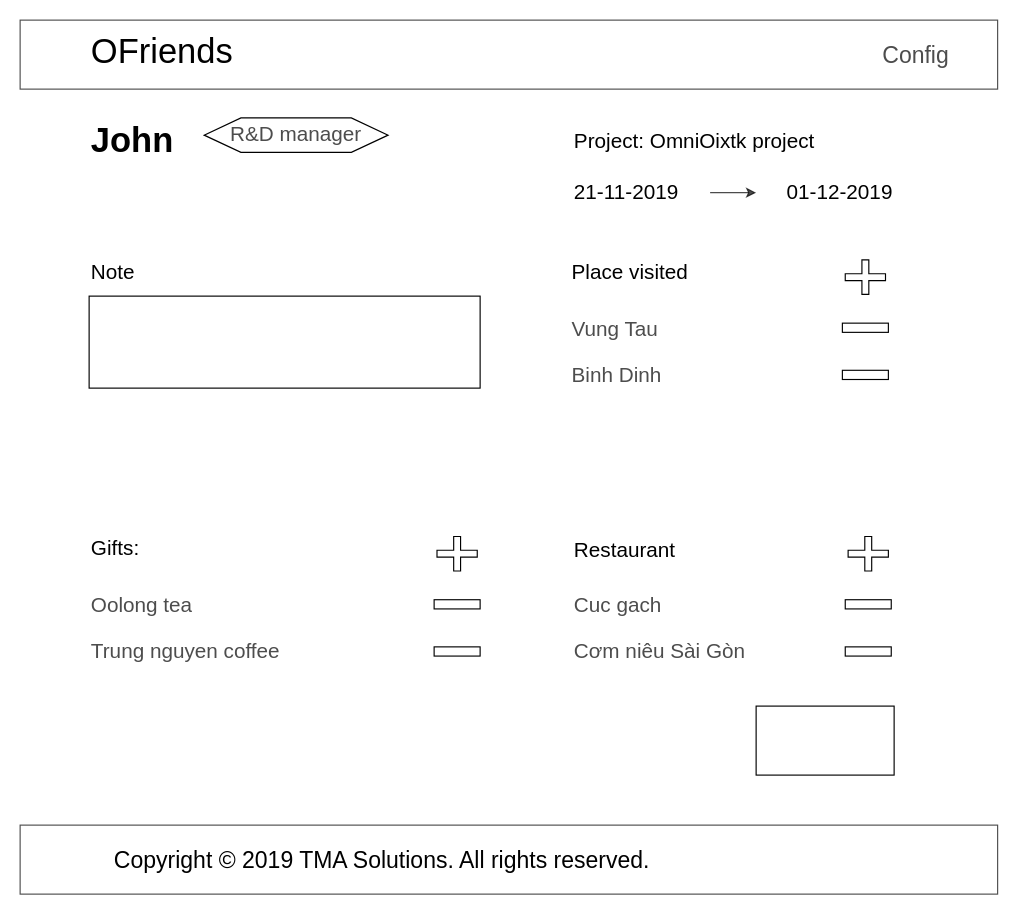
The diagram is 1018 pixels wide and 914 high, and some of its shapes have lost their labels. Here are the shapes that lost their labels. From the top down, the centre of each, then its label:
pixel 284 341: He is a vegetarian
pixel 824 740: Save
